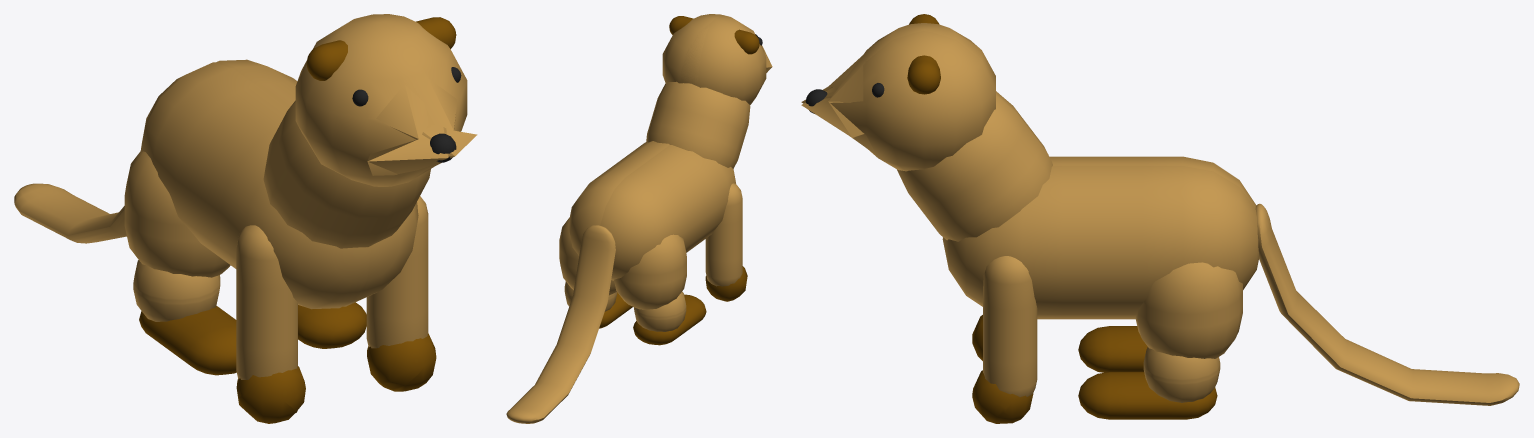
File: Otter object for unity.fbx
3 renders of one model, left to right at view 1: azimuth 30°, elevation 25°; view 2: azimuth 150°, elevation 25°; view 3: azimuth 270°, elevation 25°, orthographic. The views are drawn at different scales.
Visible parts, largest first — view 1: main_body, face, front_legs, neck, back_feet, back_upper_leg, front_feet, tail, lower_leg, ears, Sphere; view 2: main_body, tail, face, neck, back_upper_leg, front_legs, back_feet, lower_leg, ears, front_feet; view 3: main_body, face, neck, tail, back_upper_leg, back_feet, front_legs, lower_leg, front_feet, ears.
Boxes of the visible parts, x1=… form: main_body: x1=140, y1=59, x2=418, y2=309; face: x1=295, y1=14, x2=477, y2=186; front_legs: x1=236, y1=196, x2=428, y2=379; neck: x1=263, y1=100, x2=430, y2=248; back_feet: x1=139, y1=302, x2=366, y2=375; back_upper_leg: x1=124, y1=151, x2=230, y2=277; front_feet: x1=236, y1=332, x2=436, y2=423; tail: x1=14, y1=183, x2=126, y2=243; lower_leg: x1=133, y1=260, x2=220, y2=321; ears: x1=306, y1=17, x2=456, y2=80; Sphere: x1=430, y1=133, x2=456, y2=162; main_body: x1=569, y1=141, x2=735, y2=280; tail: x1=506, y1=225, x2=615, y2=423; face: x1=662, y1=14, x2=772, y2=104; neck: x1=646, y1=81, x2=750, y2=168; back_upper_leg: x1=559, y1=217, x2=686, y2=309; front_legs: x1=705, y1=183, x2=742, y2=286; back_feet: x1=599, y1=292, x2=706, y2=345; lower_leg: x1=564, y1=281, x2=686, y2=331; ears: x1=669, y1=16, x2=759, y2=54; front_feet: x1=705, y1=266, x2=747, y2=301; main_body: x1=942, y1=156, x2=1258, y2=319; face: x1=801, y1=23, x2=995, y2=171; neck: x1=897, y1=91, x2=1052, y2=241; tail: x1=1255, y1=203, x2=1519, y2=405; back_upper_leg: x1=1135, y1=262, x2=1242, y2=358; back_feet: x1=1078, y1=326, x2=1217, y2=419; front_legs: x1=983, y1=256, x2=1037, y2=396; lower_leg: x1=1143, y1=347, x2=1220, y2=402; front_feet: x1=972, y1=315, x2=1033, y2=423; ears: x1=907, y1=14, x2=940, y2=94.
Size of the model in its own units: 123 by 258 by 449.
